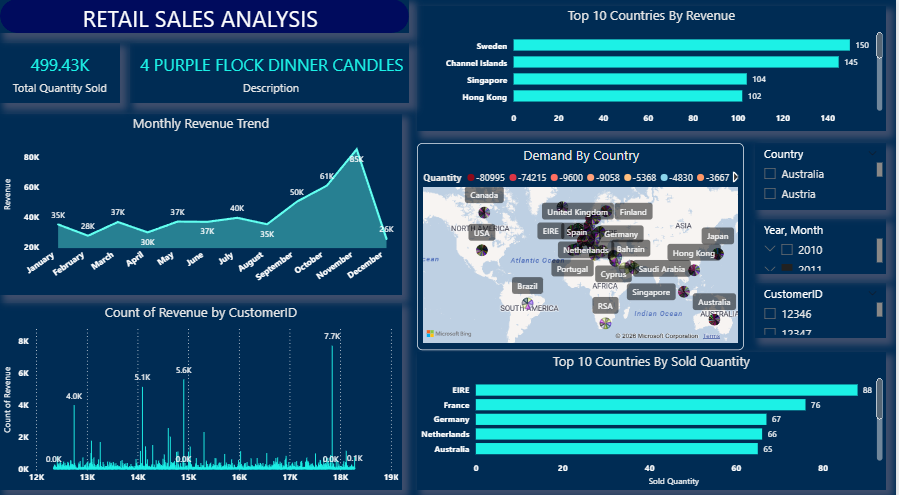

What the dashboard file says about the page in this screenshot:
{"tool":"powerbi","page":{"name":"Page 1","canvas":[1280,720],"ordinal":0},"visuals":[{"type":"lineChart","title":"Monthly Revenue Trend","fields":{"Category":["Online Retail.InvoiceDate.Variation.Date Hierarchy.Month"],"Y":["CountNonNull(Online Retail.Revenue)"]},"box":[0,164.3,574.3,258.6],"z":0},{"type":"shape","box":[0,0,584.3,48.6],"z":1000},{"type":"clusteredBarChart","title":"Top 10 Countries By Revenue","fields":{"Category":["Online Retail.Country"],"Y":["Count(Online Retail.Revenue)"]},"box":[595.7,10,670,178.6],"z":2000},{"type":"columnChart","fields":{"Category":["Online Retail.CustomerID"],"Y":["CountNonNull(Online Retail.Revenue)"]},"box":[0,434.3,574.3,267.1],"z":3000},{"type":"map","title":"Demand By Country","fields":{"Category":["Online Retail.Country"],"Series":["Online Retail.Quantity"]},"box":[595.7,205.7,467.1,295.7],"z":4000},{"type":"clusteredBarChart","title":"Top 10 Countries By Sold Quantity","fields":{"Category":["Online Retail.Country"],"Y":["Count(Online Retail.Quantity)"]},"box":[595.7,504.3,670,197.1],"z":5000},{"type":"slicer","fields":{"Values":["Online Retail.Country"]},"box":[1078.6,205.7,187.1,95.7],"z":6000},{"type":"slicer","fields":{"Values":["Online Retail.InvoiceDate.Variation.Date Hierarchy.Year","Online Retail.InvoiceDate.Variation.Date Hierarchy.Month"]},"box":[1078.6,314.3,187.1,78.6],"z":7000},{"type":"slicer","fields":{"Values":["Online Retail.CustomerID"]},"box":[1078.6,405.7,187.1,78.6],"z":8000},{"type":"textbox","box":[80,0,412.9,52.9],"z":9000},{"type":"card","fields":{"Values":["CountNonNull(Online Retail.Quantity)"]},"box":[0,62.9,171.4,85.7],"z":10000},{"type":"card","fields":{"Values":["Min(Online Retail.Description)"]},"box":[185.7,62.9,398.6,85.7],"z":11000}]}

Visuals, with their boxes in screenshot pixels (x1, y1, x2, y2), scaled from the page's 1280x720 canvas onto the 899x495 screenshot:
"Monthly Revenue Trend" lineChart: {"left": 0, "top": 113, "right": 403, "bottom": 291}
shape: {"left": 0, "top": 0, "right": 410, "bottom": 33}
"Top 10 Countries By Revenue" clusteredBarChart: {"left": 418, "top": 7, "right": 889, "bottom": 130}
columnChart - Online Retail.CustomerID x CountNonNull(Online Retail.Revenue): {"left": 0, "top": 299, "right": 403, "bottom": 482}
"Demand By Country" map: {"left": 418, "top": 141, "right": 746, "bottom": 345}
"Top 10 Countries By Sold Quantity" clusteredBarChart: {"left": 418, "top": 347, "right": 889, "bottom": 482}
slicer - Online Retail.Country: {"left": 758, "top": 141, "right": 889, "bottom": 207}
slicer - Online Retail.InvoiceDate.Variation.Date Hierarchy.Year x Online Retail.InvoiceDate.Variation.Date Hierarchy.Month: {"left": 758, "top": 216, "right": 889, "bottom": 270}
slicer - Online Retail.CustomerID: {"left": 758, "top": 279, "right": 889, "bottom": 333}
textbox: {"left": 56, "top": 0, "right": 346, "bottom": 36}
card - CountNonNull(Online Retail.Quantity): {"left": 0, "top": 43, "right": 120, "bottom": 102}
card - Min(Online Retail.Description): {"left": 130, "top": 43, "right": 410, "bottom": 102}
